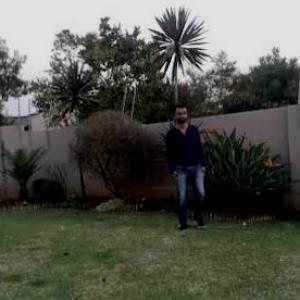follow: (166, 96, 205, 232)
